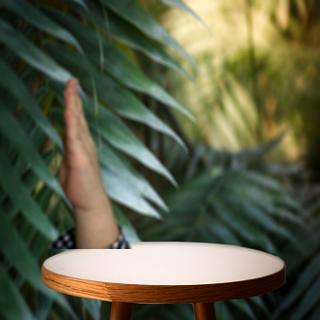RIGHT: (55, 74, 113, 217)
